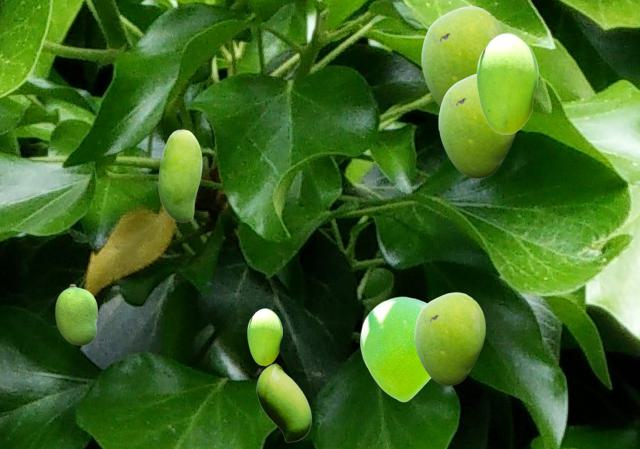green_mango: (421, 6, 503, 106), (438, 73, 516, 177), (360, 296, 430, 401), (414, 292, 484, 384), (476, 32, 537, 133), (256, 363, 310, 441), (158, 129, 201, 221), (55, 284, 96, 344), (247, 308, 281, 364)
